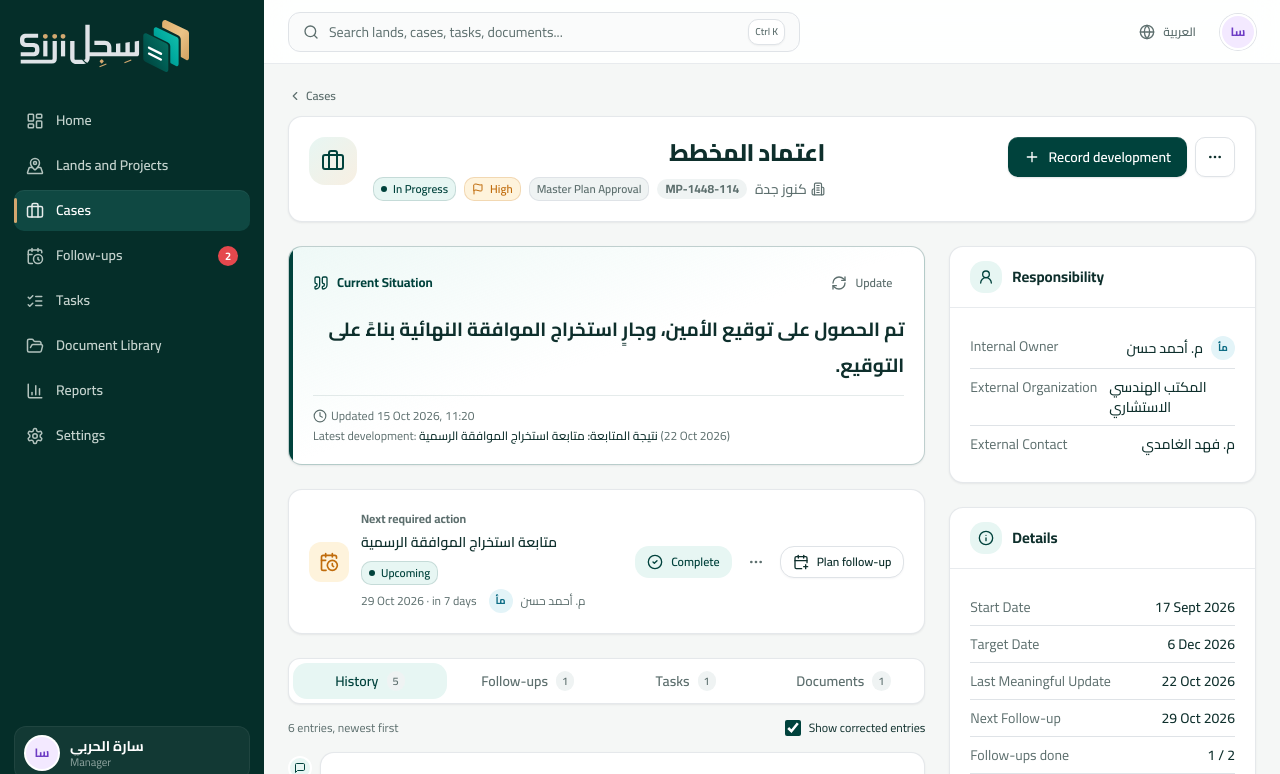
case workspace › refuses a development dated in the future
Click the button "Record development" at (1098, 157), box [1008,137,1187,177]
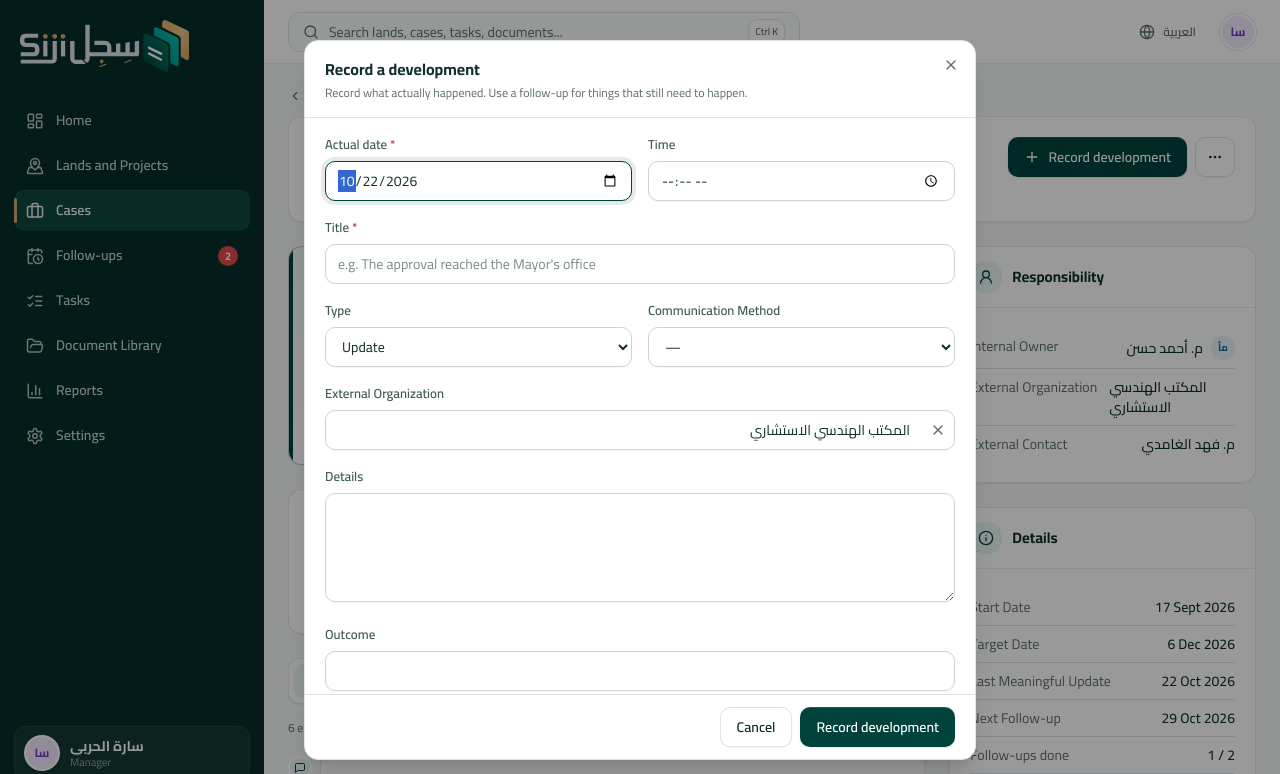
Type "2026-10-25" into the date field labelled "Actual date *" at (478, 181), box [325,161,632,201]
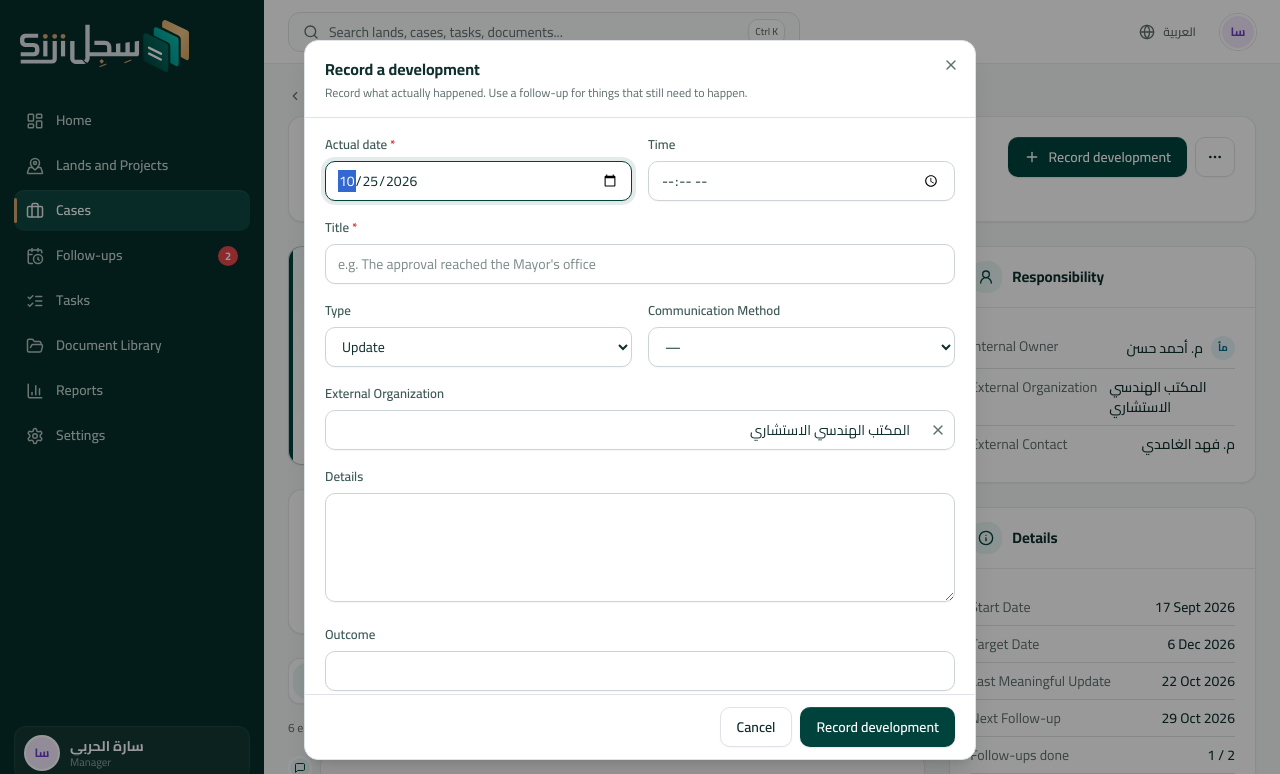
Type "Not yet" into the field labelled "Title *" at (640, 264), box [325,244,955,284]
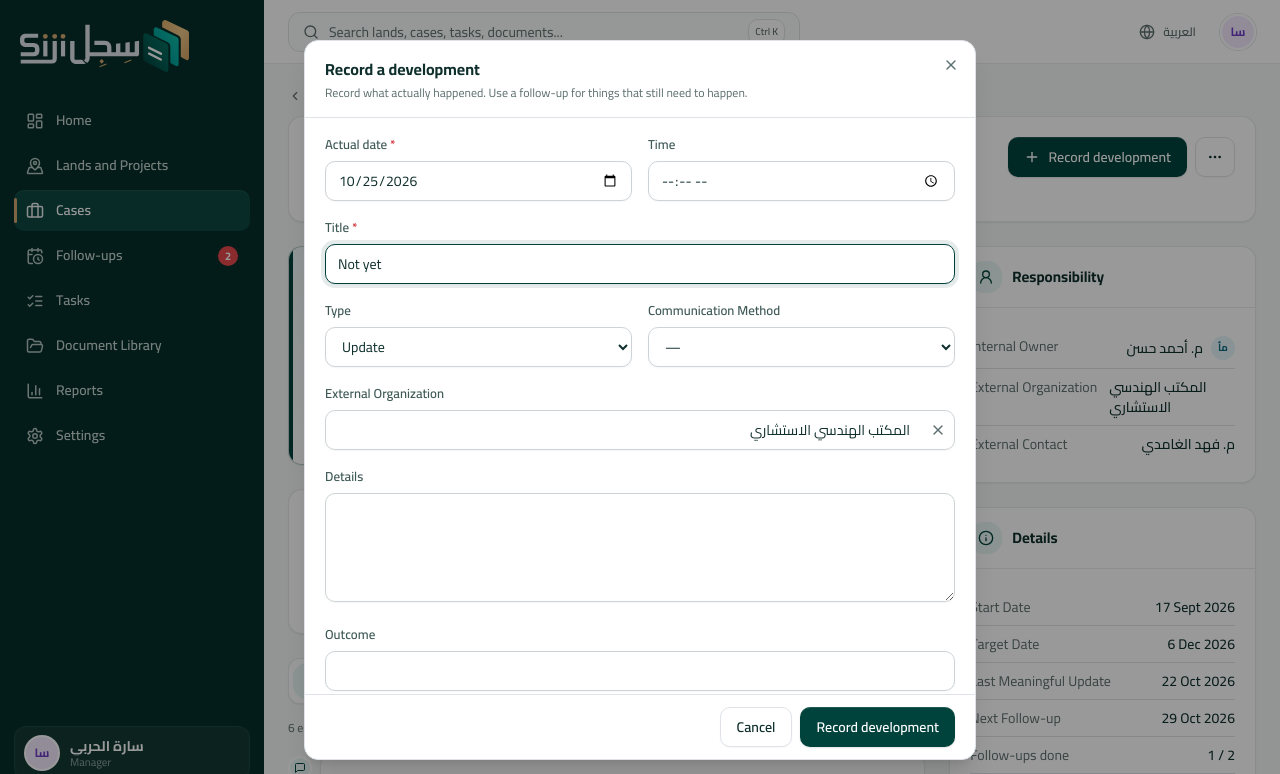
Click the button "Record development" at (878, 727), box [800,707,955,747]
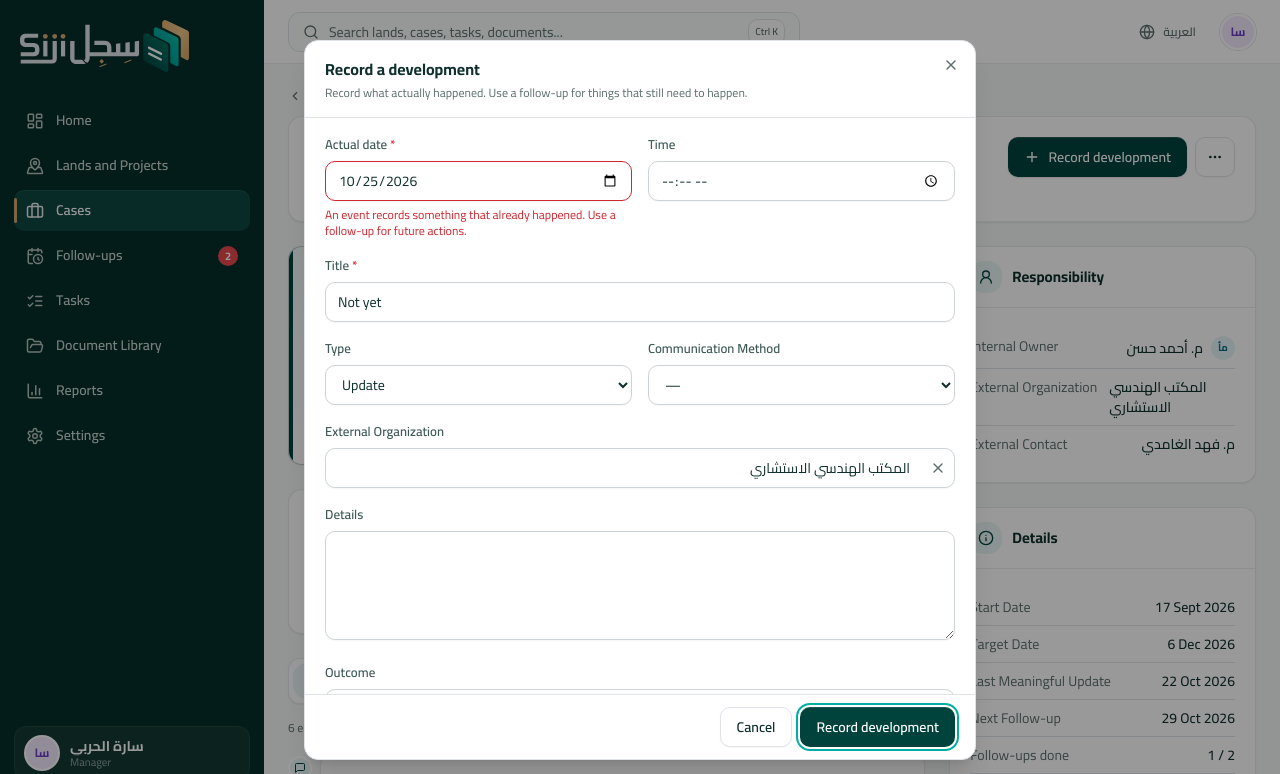
Now the text "already happened" is shown, box [325,203,616,242]
